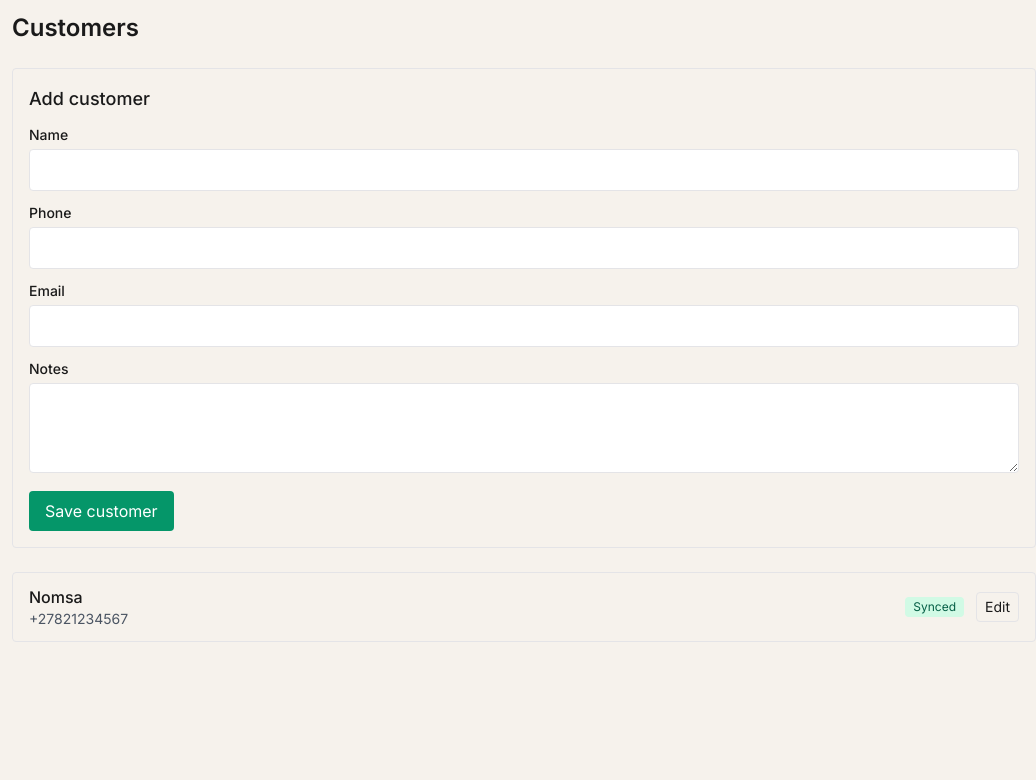
CustomersPage › opens the edit form pre-filled when Edit is clicked
This screenshot has width=1036, height=780.
Check: the text "Nomsa" is shown, box [29,587,83,607]
Click the button "Edit". click: (998, 607)
box: [976,592,1019,622]
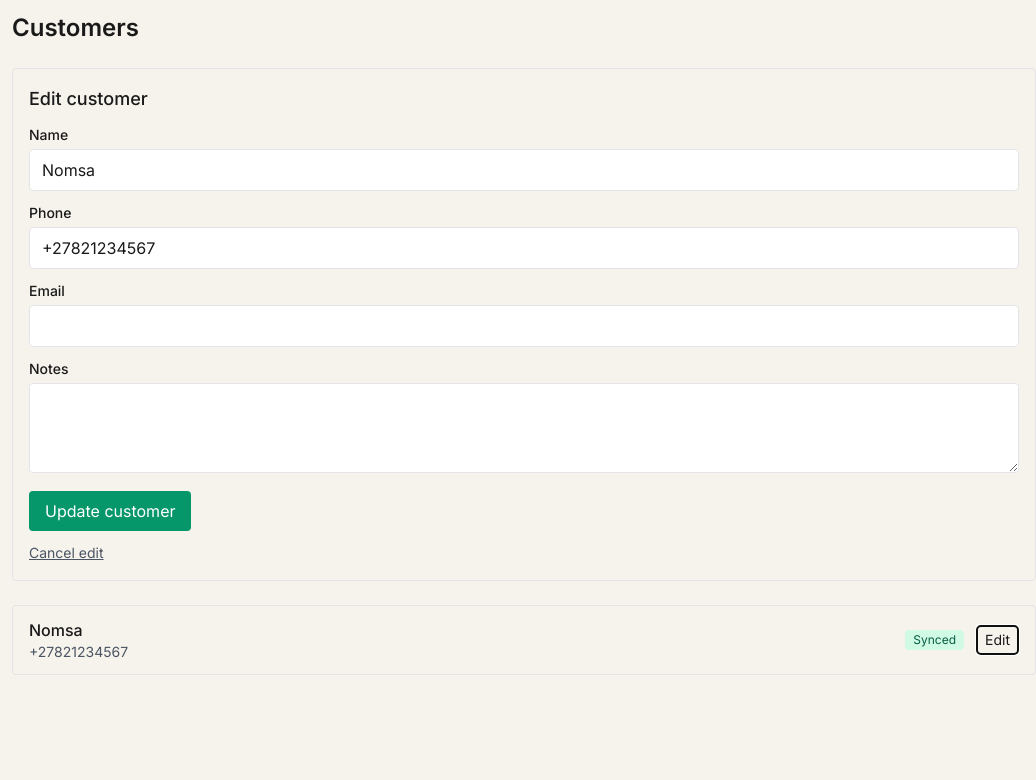
Check: the field labelled "Name" holds "Nomsa", box [29,149,1019,191]
Check: the field labelled "Phone" holds "+27821234567", box [29,227,1019,269]
